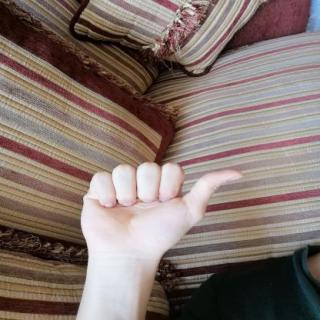DAD: (68, 158, 252, 268)
